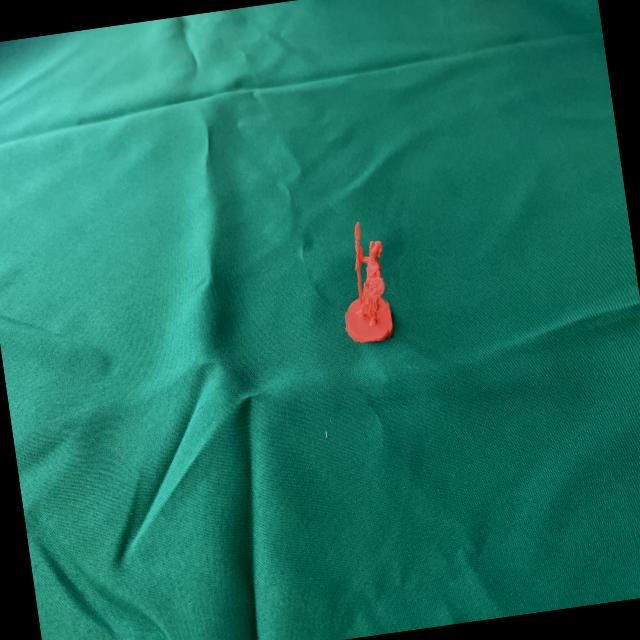amon_follower: (345, 222, 390, 342)
